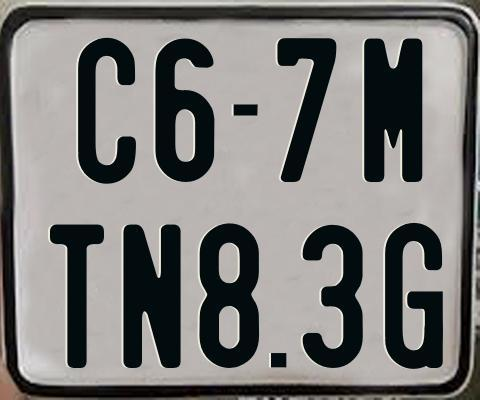3: (303, 222, 363, 367)
6: (155, 35, 215, 183)
7: (275, 37, 338, 185)
8: (198, 221, 262, 372)
C: (78, 35, 141, 187)
G: (384, 221, 445, 373)
M: (362, 35, 422, 184)
N: (123, 222, 185, 369)
T: (49, 222, 109, 368)
